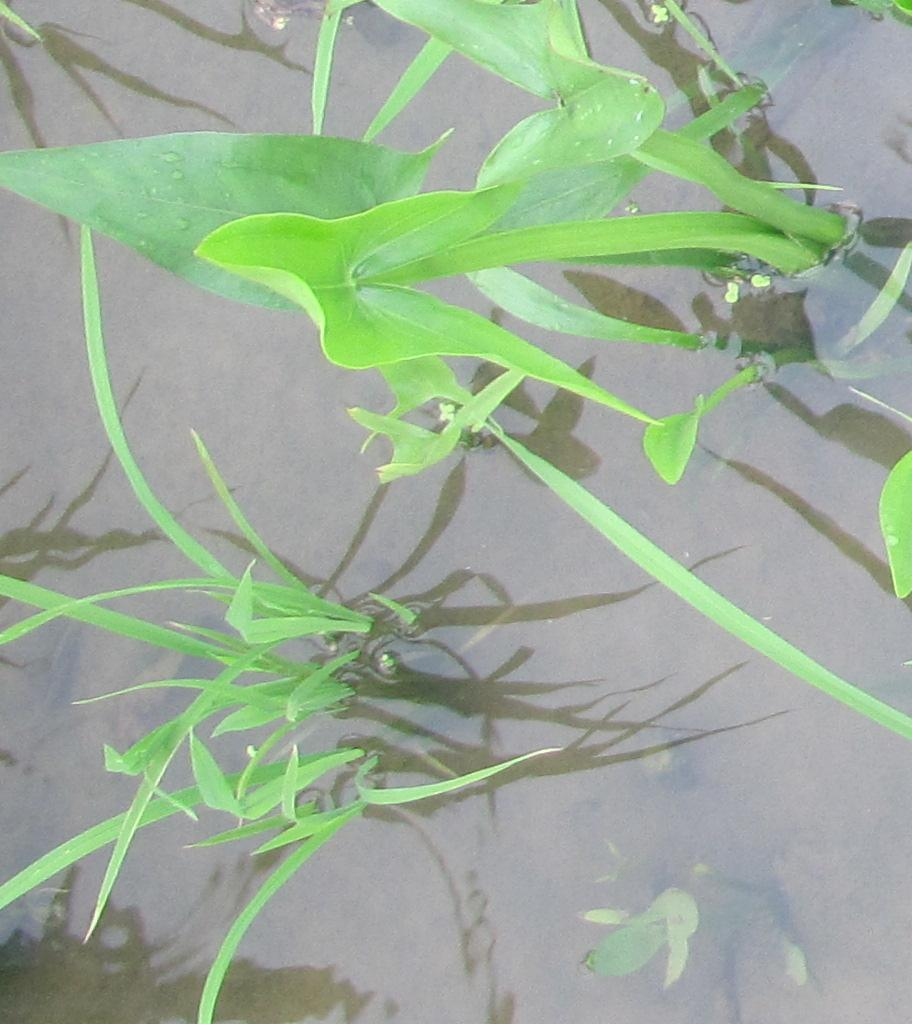Weed: (38, 133, 503, 366), (380, 2, 685, 171)
